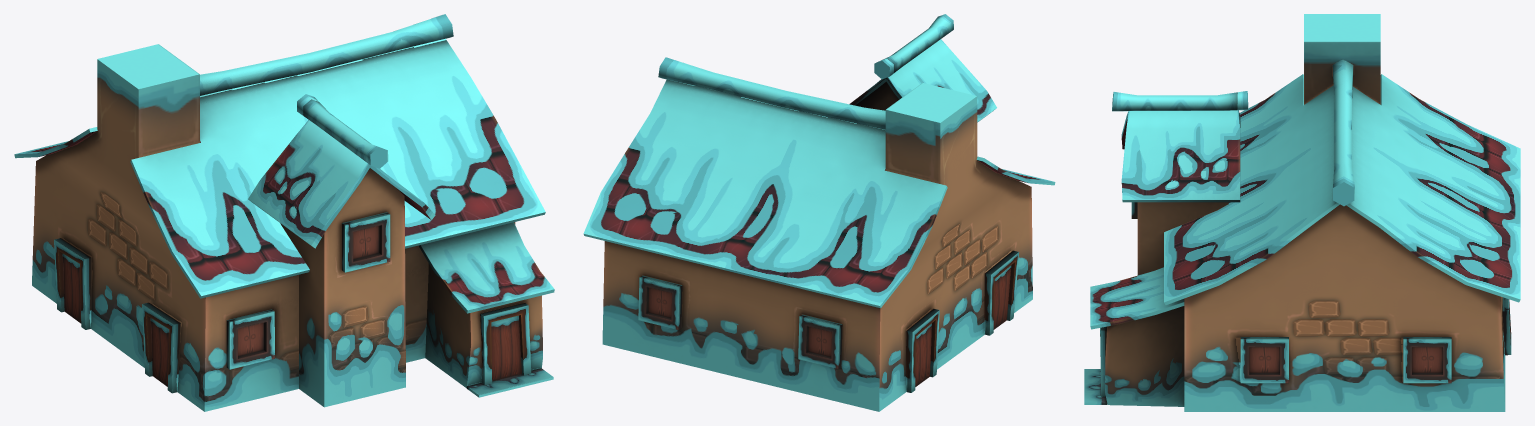
The model's file is House7.FBX.
3 views of the same model, side by side, from view 1: azimuth 30°, elevation 25°; view 2: azimuth 150°, elevation 25°; view 3: azimuth 270°, elevation 25° (orthographic). The views are drawn at different scales.
Visible parts, largest first — view 1: House7; view 2: House7; view 3: House7.
Part boxes in pixels (x1,y1,x2,y2): House7: (14, 14, 554, 411); House7: (583, 14, 1055, 411); House7: (1084, 14, 1520, 411).
Size of the model in its own units: 204 by 154 by 237.
